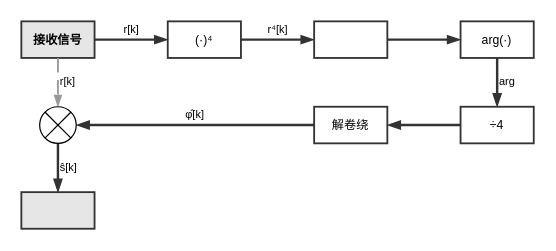
This 556x251 diagram has some shape labels left out. Each missing label, with the box of its shape:
1/M Σ: (313, 20, 388, 58)
补偿输出: (20, 191, 95, 229)
